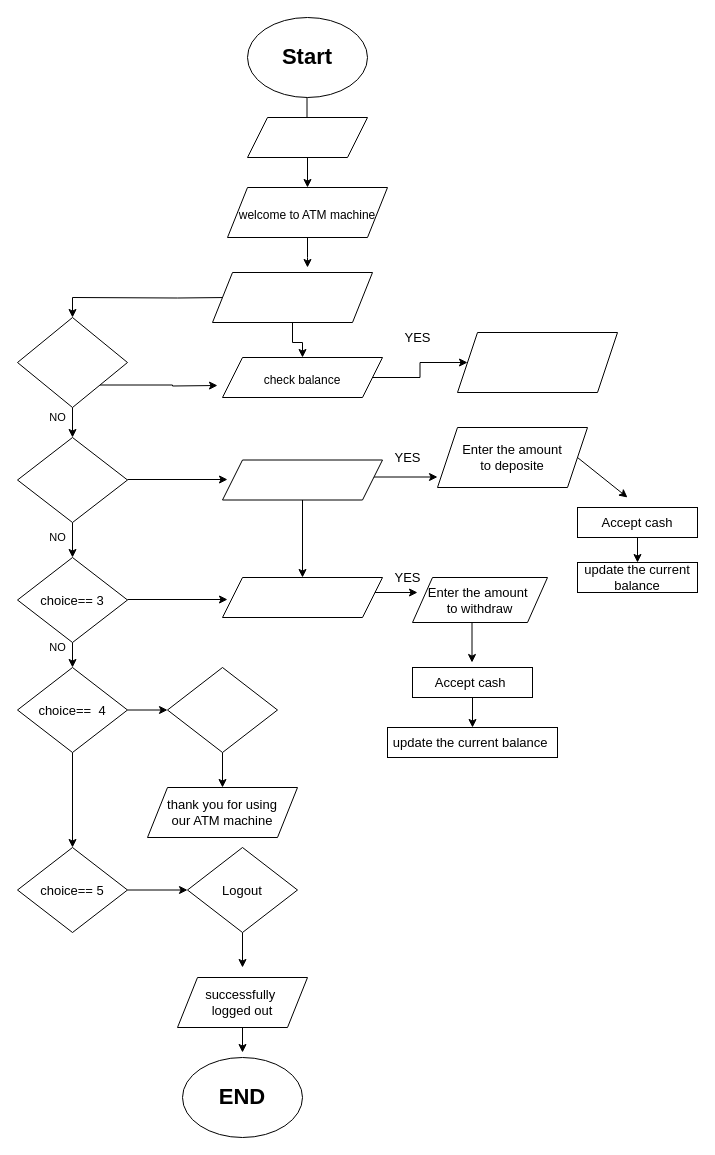
Image size: 715x1155. Some labels were removed from this diagram. Each missing label, with the box of its shape:
choice== 1: (16, 316, 128, 408)
choice== 2: (16, 436, 128, 522)
choose deposite: (222, 459, 382, 500)
choose withdraw: (222, 576, 382, 618)
Enter your choice: (212, 272, 372, 322)
Enter your name: (246, 116, 368, 158)
Exit: (166, 666, 278, 752)
output account balance info: (456, 332, 618, 392)
